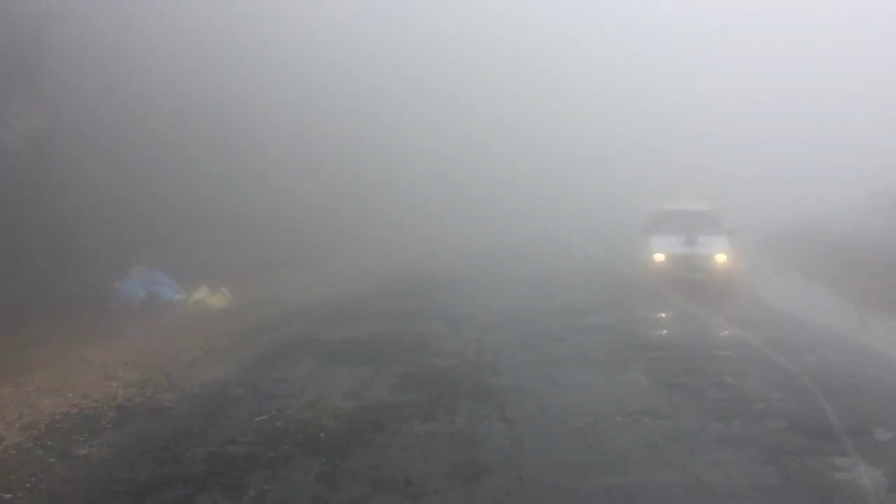car: (640, 197, 738, 289)
